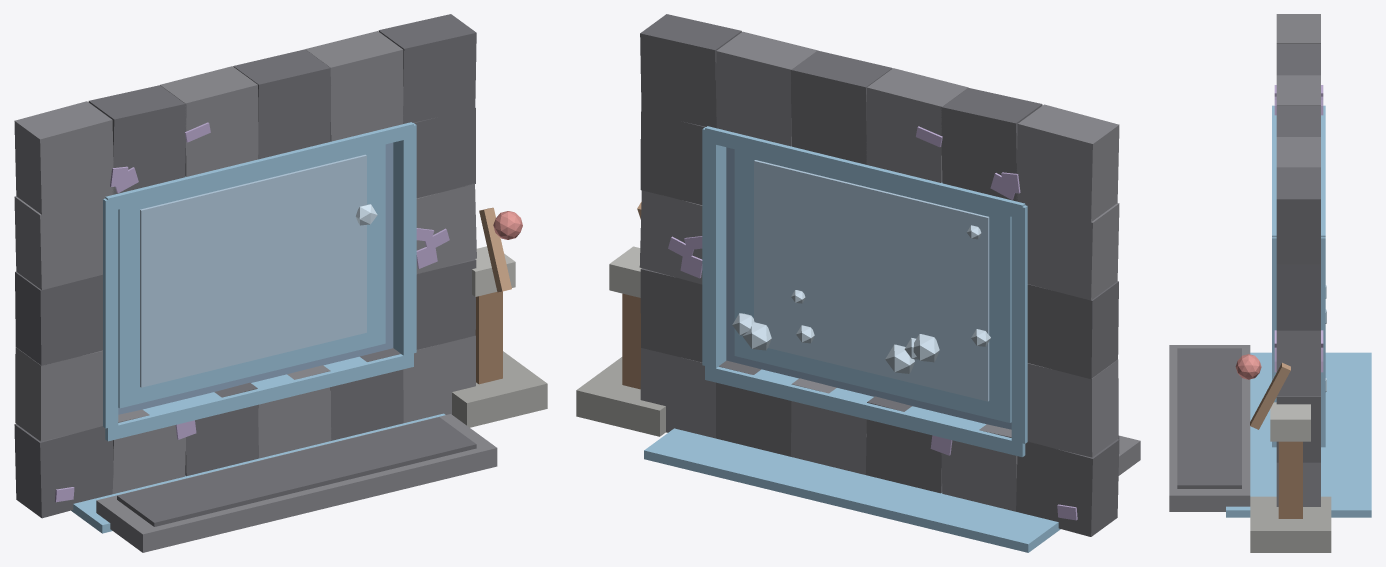
Rendered from lapisovy_portal.glb.
The picture shows the model from 3 angles, left to right: view 1: azimuth 30°, elevation 25°; view 2: azimuth 150°, elevation 25°; view 3: azimuth 270°, elevation 25°; orthographic projection. The views are drawn at different scales.
Parts seen in each view (by area): view 1: LapisovyPortal_black, LapisovyPortal_dark, LapisovyPortal_blue2, LapisovyPortal_mosaic, LapisovyPortal_grey4, LapisovyPortal_deepblue, LapisovyPortal_wood2, LapisovyPortal_purple2, LapisovyPortal_wood, LapisovyPortal_grey3, LapisovyPortal_red2; view 2: LapisovyPortal_dark, LapisovyPortal_black, LapisovyPortal_mosaic, LapisovyPortal_blue2, LapisovyPortal_deepblue, LapisovyPortal_grey4, LapisovyPortal_blue, LapisovyPortal_purple2, LapisovyPortal_wood2, LapisovyPortal_grey3; view 3: LapisovyPortal_black, LapisovyPortal_mosaic, LapisovyPortal_dark, LapisovyPortal_grey4, LapisovyPortal_wood2, LapisovyPortal_grey3, LapisovyPortal_wood, LapisovyPortal_red2, LapisovyPortal_purple2.
Boxes of the visible parts, bbox=[...] form: LapisovyPortal_black: bbox=[14, 14, 476, 526]; LapisovyPortal_dark: bbox=[14, 31, 497, 552]; LapisovyPortal_blue2: bbox=[140, 154, 366, 387]; LapisovyPortal_mosaic: bbox=[71, 122, 445, 533]; LapisovyPortal_grey4: bbox=[452, 351, 547, 427]; LapisovyPortal_deepblue: bbox=[118, 142, 393, 414]; LapisovyPortal_wood2: bbox=[475, 291, 502, 384]; LapisovyPortal_purple2: bbox=[55, 122, 449, 502]; LapisovyPortal_wood: bbox=[479, 207, 511, 292]; LapisovyPortal_grey3: bbox=[472, 246, 515, 296]; LapisovyPortal_red2: bbox=[493, 211, 522, 239]; LapisovyPortal_dark: bbox=[639, 31, 1140, 511]; LapisovyPortal_black: bbox=[640, 14, 1119, 536]; LapisovyPortal_mosaic: bbox=[644, 126, 1060, 552]; LapisovyPortal_blue2: bbox=[754, 160, 989, 401]; LapisovyPortal_deepblue: bbox=[726, 147, 1011, 429]; LapisovyPortal_grey4: bbox=[576, 357, 665, 436]; LapisovyPortal_blue: bbox=[732, 225, 990, 373]; LapisovyPortal_purple2: bbox=[668, 126, 1077, 520]; LapisovyPortal_wood2: bbox=[622, 293, 640, 389]; LapisovyPortal_grey3: bbox=[609, 246, 641, 297]; LapisovyPortal_black: bbox=[1177, 44, 1320, 488]; LapisovyPortal_mosaic: bbox=[1226, 105, 1371, 517]; LapisovyPortal_dark: bbox=[1169, 14, 1320, 511]; LapisovyPortal_grey4: bbox=[1250, 496, 1331, 552]; LapisovyPortal_wood2: bbox=[1278, 441, 1302, 518]; LapisovyPortal_grey3: bbox=[1270, 402, 1310, 441]; LapisovyPortal_wood: bbox=[1250, 362, 1290, 429]; LapisovyPortal_red2: bbox=[1235, 354, 1261, 379]; LapisovyPortal_purple2: bbox=[1274, 85, 1323, 372].
Bounding box in the file's own units: 6.11 × 4.54 × 2.5.
